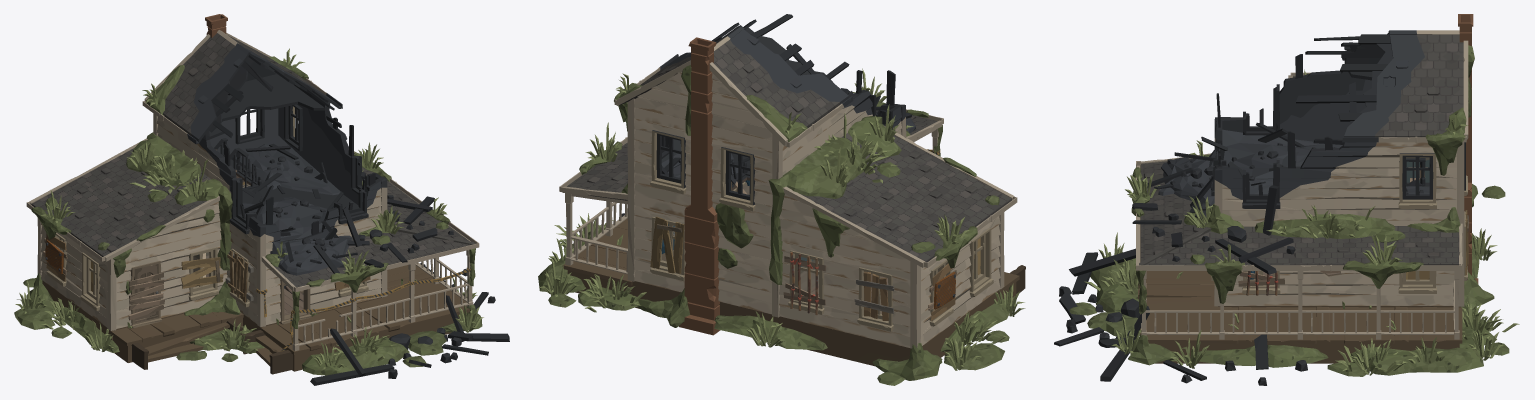
The model's file is burnt_house.fbx.
3 renders of one model, left to right at view 1: azimuth 30°, elevation 25°; view 2: azimuth 150°, elevation 25°; view 3: azimuth 270°, elevation 25°, orthographic. The views are drawn at different scales.
Visible parts, largest first — view 1: SM_Bld_House_Burnt_01; view 2: SM_Bld_House_Burnt_01; view 3: SM_Bld_House_Burnt_01.
Boxes of the visible parts, bbox=[...] form: SM_Bld_House_Burnt_01: bbox=[14, 14, 509, 385]; SM_Bld_House_Burnt_01: bbox=[538, 14, 1025, 385]; SM_Bld_House_Burnt_01: bbox=[1054, 14, 1519, 385].
Bounding box in the file's own units: 1678 × 1003 × 1492.
Materials: 2 (2 with a texture image).
